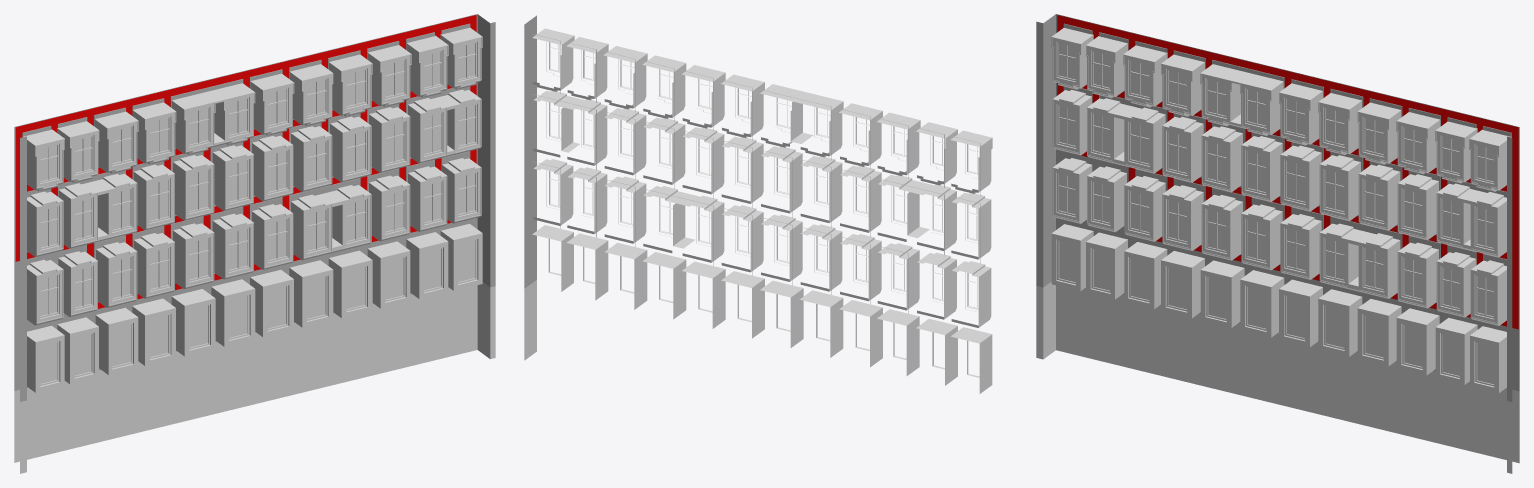
The model's file is BuildingV04.glb.
3 renders of one model, left to right at view 1: azimuth 30°, elevation 25°; view 2: azimuth 150°, elevation 25°; view 3: azimuth 330°, elevation 25°, orthographic.
Parts seen in each view (by area): view 1: Windows, Building, Building-Building, Roads.1-Roads, Paths-Paths; view 2: Windows, Building-Building, Paths-Paths, Building; view 3: Windows, Building, Building-Building, Roads.1-Roads, Paths-Paths.
Boxes of the visible parts, x1,y1,x2,y2 form: Windows: (23,27,482,392); Building: (14,282,495,473); Building-Building: (14,14,495,401); Roads.1-Roads: (15,15,476,308); Paths-Paths: (22,23,470,302); Windows: (532,28,992,393); Building-Building: (524,15,536,288); Paths-Paths: (532,34,980,313); Building: (524,280,536,360); Windows: (1051,28,1511,393); Building: (1036,282,1519,473); Building-Building: (1036,14,1519,401); Roads.1-Roads: (1057,15,1518,329); Paths-Paths: (1063,23,1511,265).
Size of the model in its own units: 11.28 by 7.61 by 0.5319.
